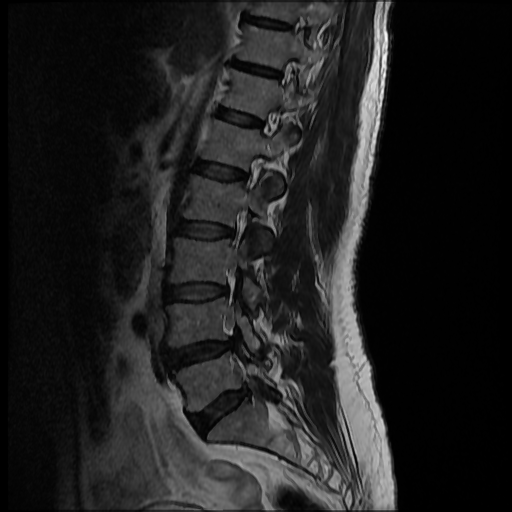RFS0: (214, 201, 258, 253), (229, 145, 272, 197)
